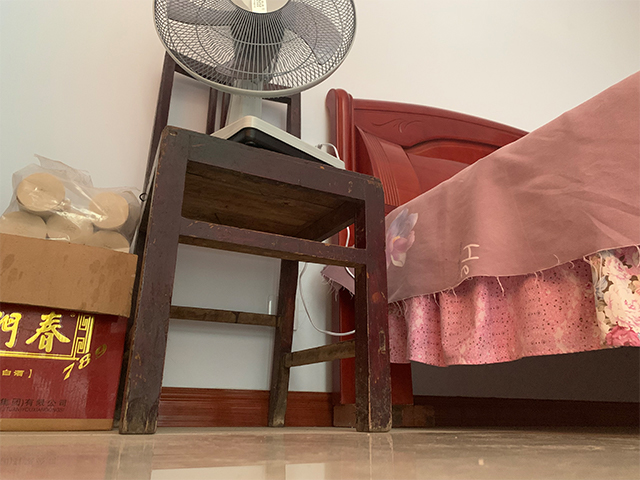bed: (318, 71, 640, 429)
stool: (114, 45, 392, 438)
